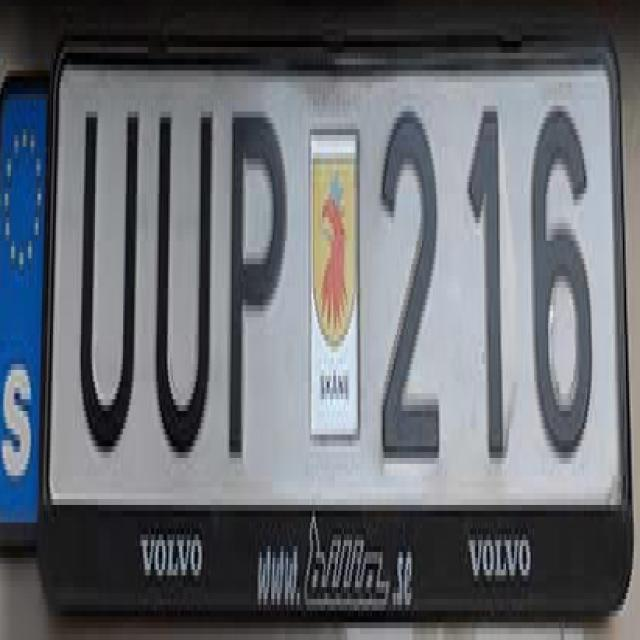EU: (0, 27, 634, 587)
Suede: (0, 63, 46, 535)
